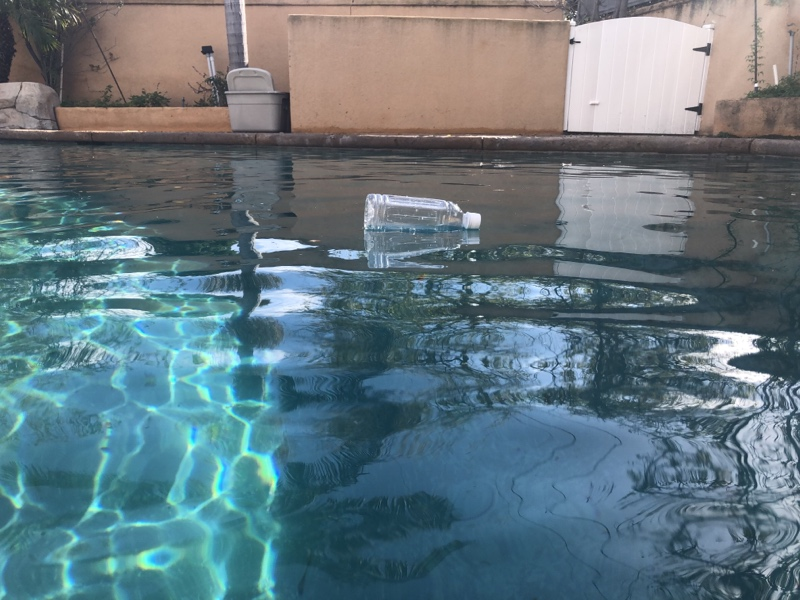Plastic Bottle: (361, 189, 486, 235)
